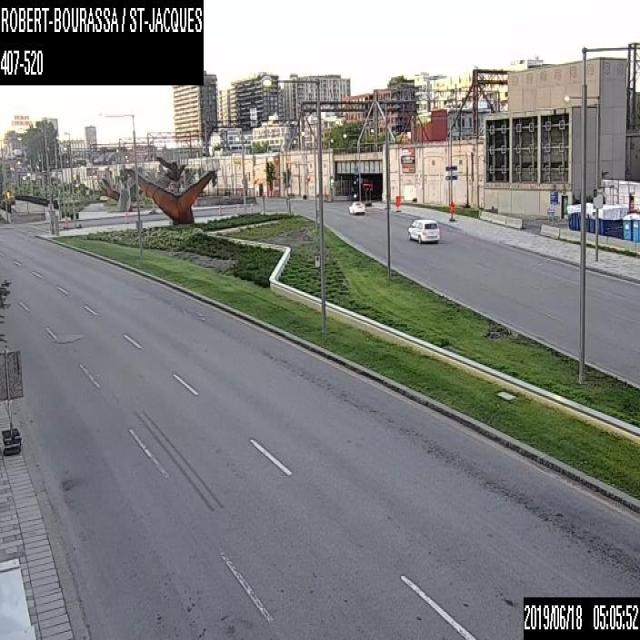construction: (448, 201, 454, 221), (394, 195, 400, 211)
vehicle: (406, 216, 439, 243), (348, 199, 364, 212)
